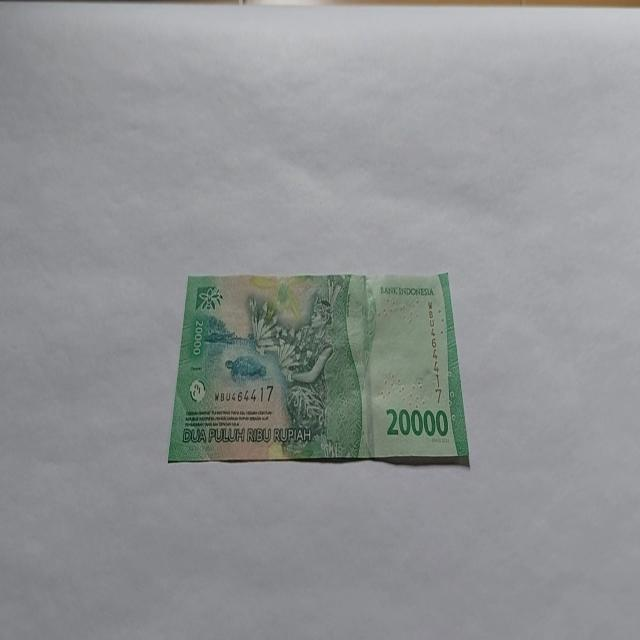dua puluh ribu rupiah: (167, 269, 470, 467)
